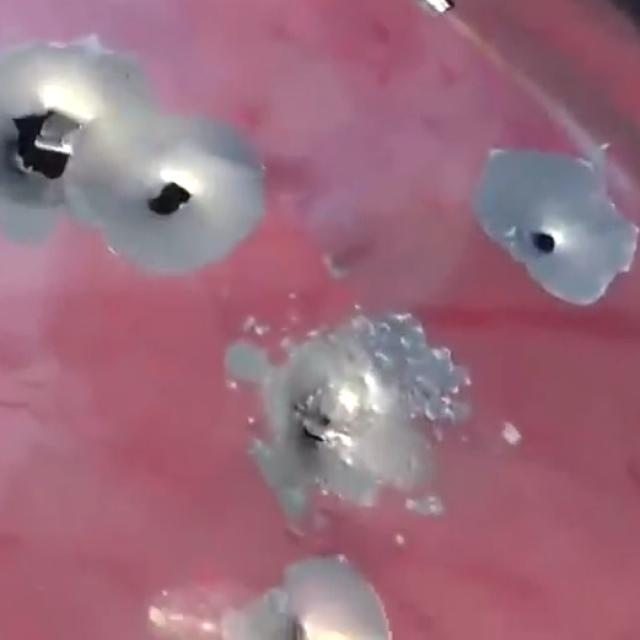bullets: (238, 316, 440, 518), (76, 113, 270, 279), (0, 41, 155, 240), (470, 145, 640, 307)
